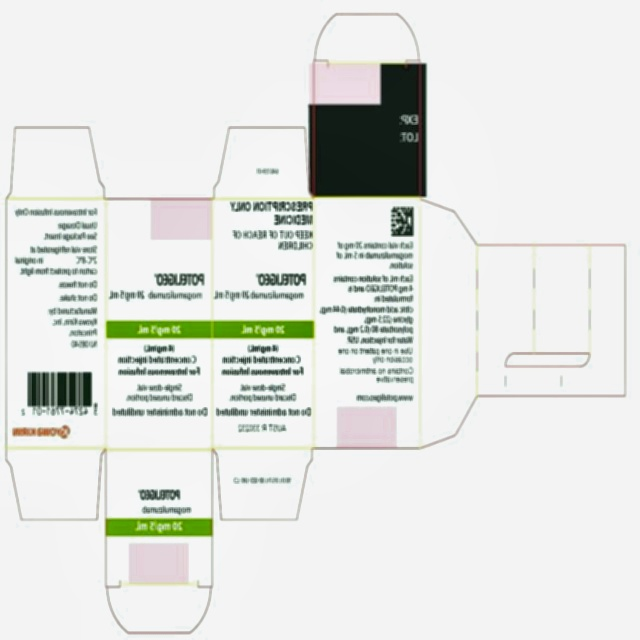Artwork: (0, 0, 640, 640)
Back_Panel: (7, 199, 107, 450)
Bottom_Part: (313, 61, 420, 198)
Extra_Areas: (421, 198, 626, 449), (212, 451, 314, 523), (7, 124, 105, 198), (212, 125, 310, 198), (5, 450, 104, 522), (106, 588, 212, 635), (314, 12, 420, 59)
Front_Panel: (211, 199, 314, 450)
Side_Panel: (314, 196, 421, 449), (107, 198, 211, 449)
Top_Panel: (105, 449, 212, 588)
